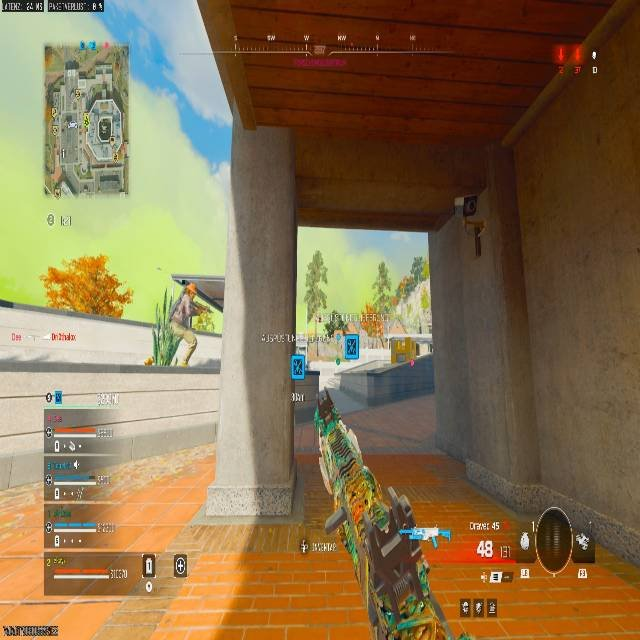head: (185, 283, 196, 297)
player: (169, 283, 202, 366), (286, 342, 310, 382)
